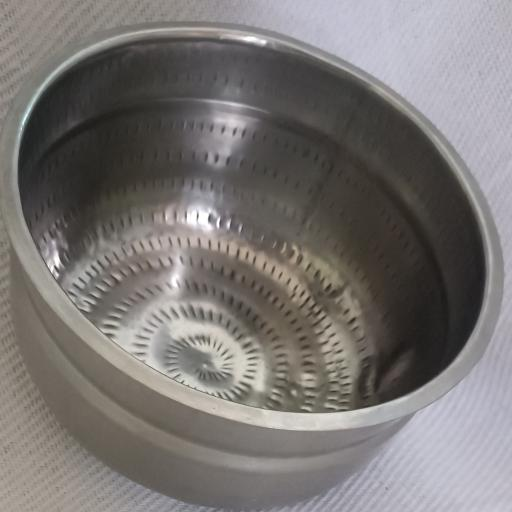vessel: (5, 24, 503, 507)
